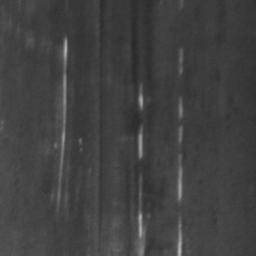Bright scratch: (56, 38, 69, 211), (137, 214, 146, 256), (177, 216, 184, 256), (178, 155, 183, 200), (138, 128, 145, 157), (138, 86, 145, 109), (179, 49, 184, 73), (178, 100, 184, 119), (179, 127, 184, 143)
